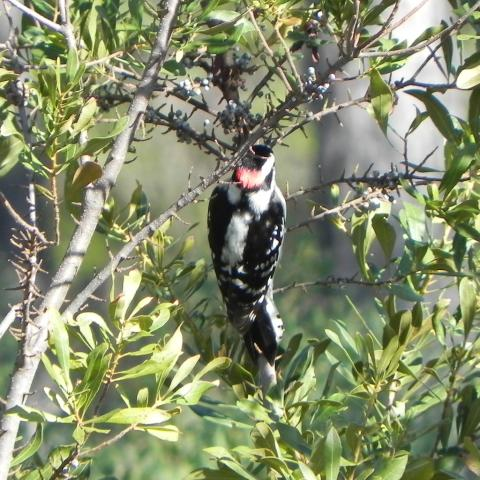bird: (204, 141, 289, 388)
